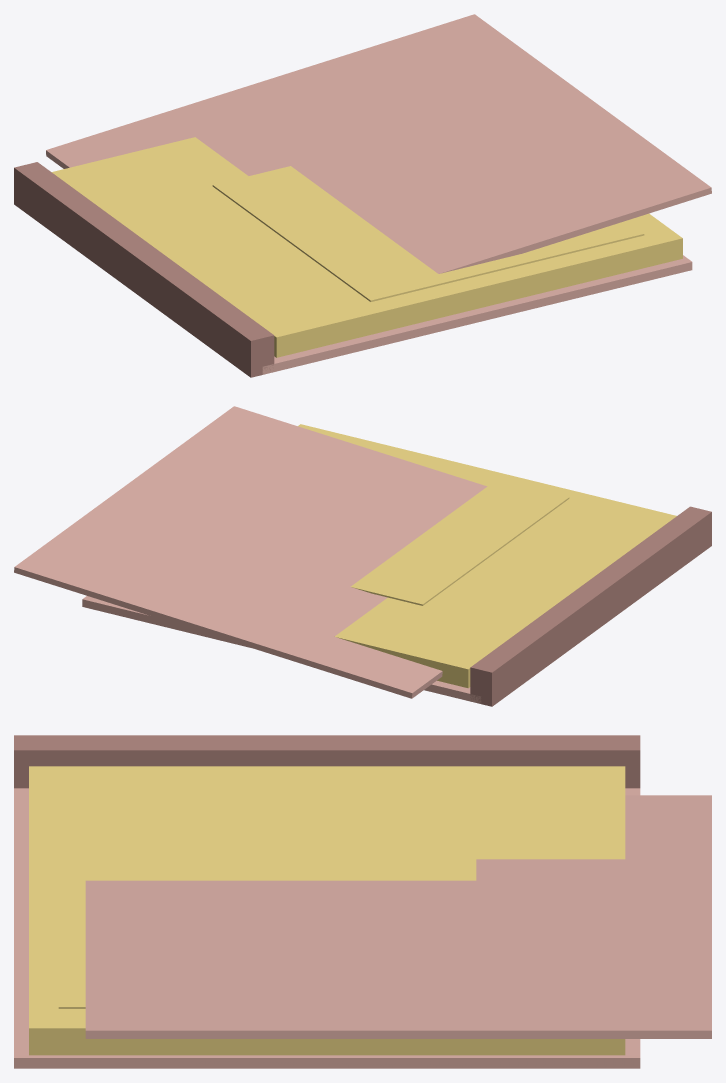
Rendered from prop-gold-leaf-book.fbx.
3 views of the same model, one above another, from view 1: azimuth 30°, elevation 25°; view 2: azimuth 150°, elevation 25°; view 3: azimuth 270°, elevation 25° (orthographic). The views are drawn at different scales.
Visible parts, largest first — view 1: prop-gold-leaf-book; view 2: prop-gold-leaf-book; view 3: prop-gold-leaf-book.
Part boxes in pixels (box(x1,y1,x2,y2)): prop-gold-leaf-book: box(14, 14, 711, 377); prop-gold-leaf-book: box(14, 406, 711, 706); prop-gold-leaf-book: box(14, 735, 711, 1068).
Size of the model in its own units: 12.49 by 1.26 by 11.7.
